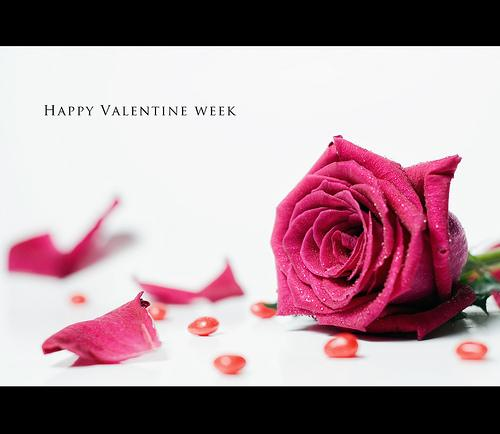Rose: (265, 130, 473, 339)
